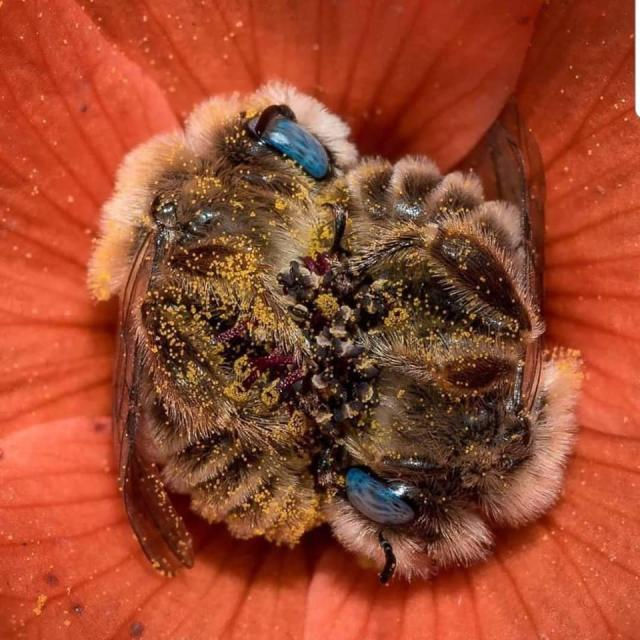Braunsapis: (100, 73, 334, 558), (326, 110, 554, 577)
